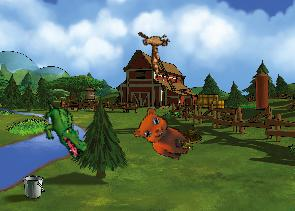bear: (130, 104, 198, 163)
crocodile: (29, 98, 98, 161)
eagle: (126, 19, 183, 78)
